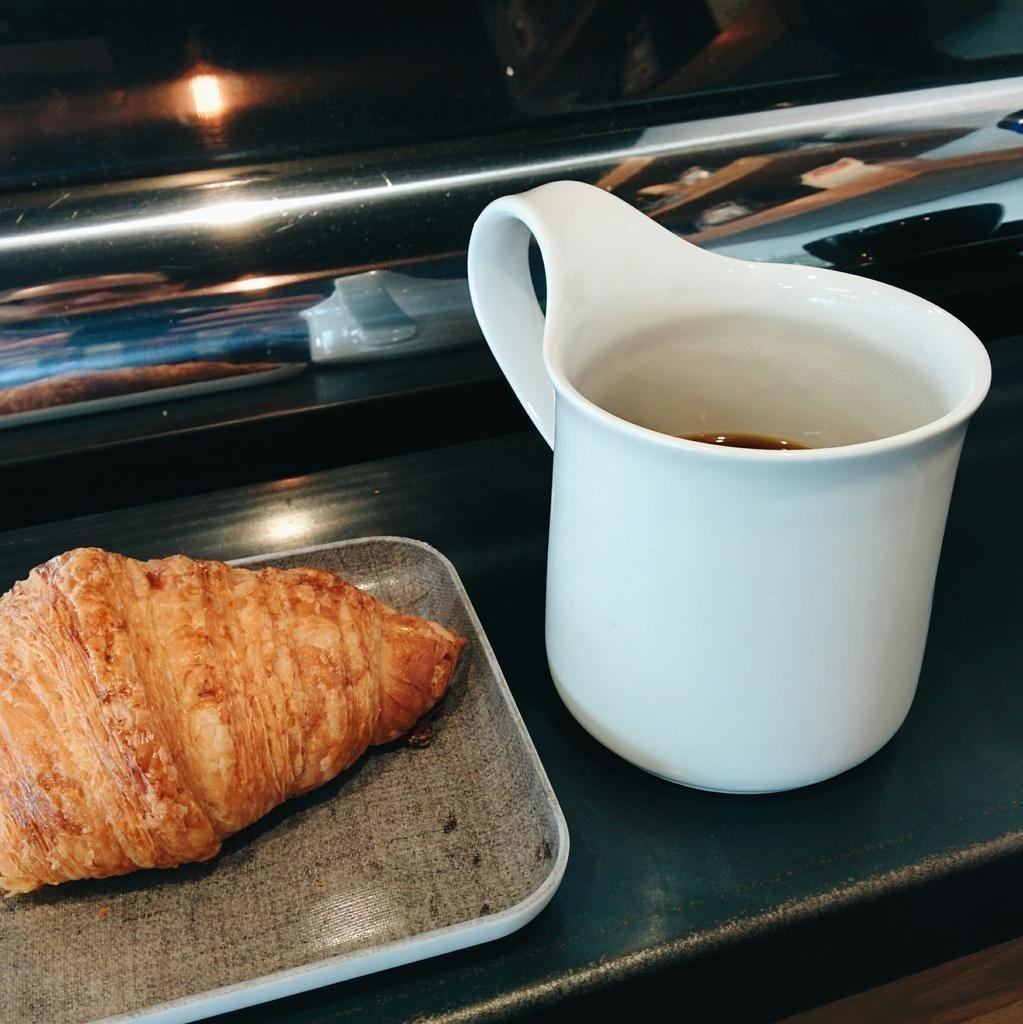cup-handle: (463, 176, 997, 797)
